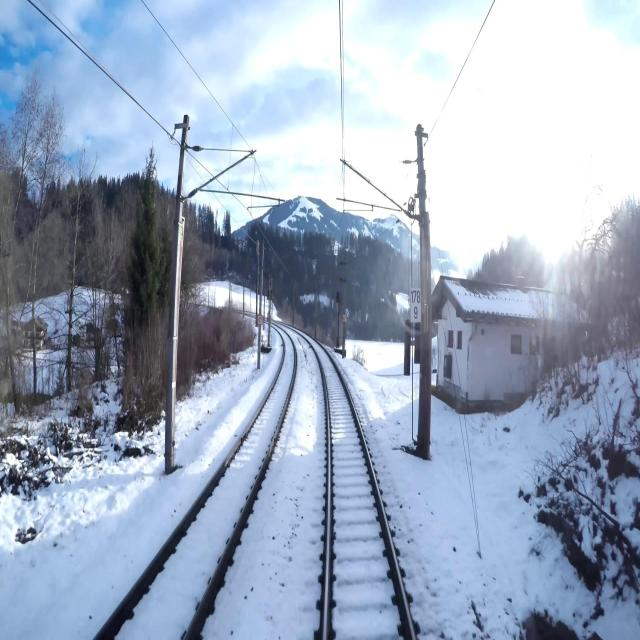rail-track: (98, 331, 293, 639), (310, 340, 410, 639)
